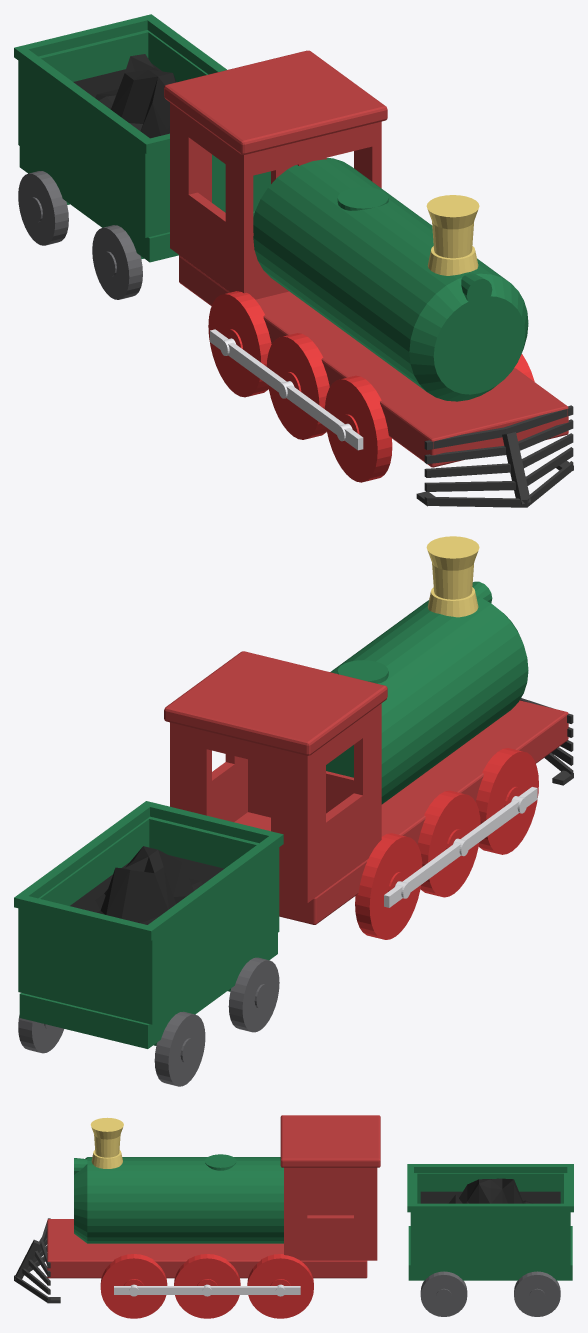
3 views of the same model, one above another, from view 1: azimuth 30°, elevation 25°; view 2: azimuth 150°, elevation 25°; view 3: azimuth 270°, elevation 25° (orthographic). The views are drawn at different scales.
Parts seen in each view (by area): view 1: Boiler, LocomotiveCab, TenderChassis, LocomotiveChassis, Cowcatcher, LocomotiveWheel_3, CoalLoad, LocomotiveWheel_5, LocomotiveWheel_4, Smokestack, TenderWheel_3, TenderWheel_2 (+1 smaller); view 2: TenderChassis, LocomotiveCab, Boiler, LocomotiveChassis, CoalLoad, LocomotiveWheel_5, LocomotiveWheel_3, LocomotiveWheel_4, Smokestack, TenderWheel_2, TenderWheel_3, ConnectingRod_1 (+2 smaller); view 3: Boiler, TenderChassis, LocomotiveCab, LocomotiveChassis, LocomotiveWheel_0, LocomotiveWheel_2, LocomotiveWheel_1, CoalLoad, TenderWheel_0, ConnectingRod_0, TenderWheel_1, Cowcatcher (+1 smaller).
Part boxes in pixels (x1,y1,x2,y2): Boiler: (253,158,528,401); LocomotiveCab: (164,50,387,299); TenderChassis: (14,14,270,262); LocomotiveChassis: (179,255,568,467); Cowcatcher: (416,405,573,507); LocomotiveWheel_3: (325,375,392,482); CoalLoad: (73,54,176,138); LocomotiveWheel_5: (208,291,271,397); LocomotiveWheel_4: (266,333,329,439); Smokestack: (426,195,479,275); TenderWheel_3: (18,171,68,245); TenderWheel_2: (92,225,142,299); TenderChassis: (14,801,283,1048); LocomotiveCab: (164,651,387,903); Boiler: (326,581,528,804); LocomotiveChassis: (279,700,568,924); CoalLoad: (70,846,224,924); LocomotiveWheel_5: (355,833,422,939); LocomotiveWheel_3: (476,748,538,854); LocomotiveWheel_4: (417,790,480,897); Smokestack: (426,536,479,617); TenderWheel_2: (228,957,279,1032); TenderWheel_3: (154,1011,205,1086); ConnectingRod_1: (384,787,537,907); Boiler: (74,1154,283,1243); TenderChassis: (407,1164,573,1280); LocomotiveCab: (280,1115,380,1260); LocomotiveChassis: (47,1219,367,1278); LocomotiveWheel_0: (100,1254,167,1318); LocomotiveWheel_2: (247,1254,313,1318); LocomotiveWheel_1: (174,1254,240,1318); CoalLoad: (420,1178,560,1203); TenderWheel_0: (420,1271,467,1316); ConnectingRod_0: (114,1284,300,1296); TenderWheel_1: (514,1271,560,1316); Cowcatcher: (14,1218,60,1303).
Size of the model in its own units: 0.2 by 0.28 by 0.84.
